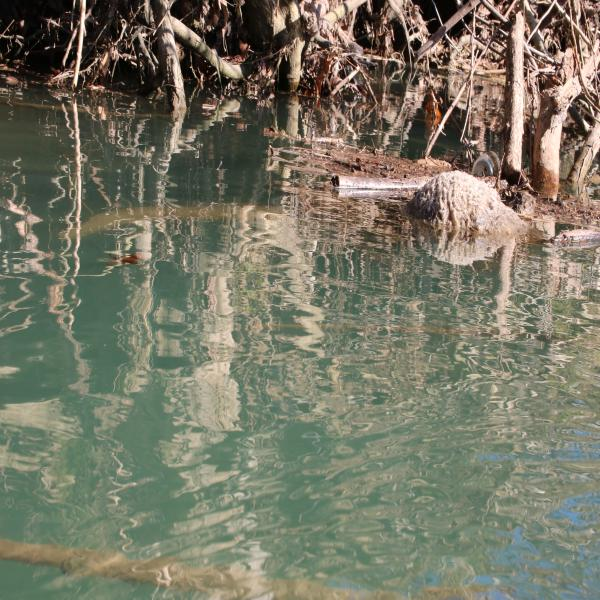bottles: (471, 149, 501, 177)
